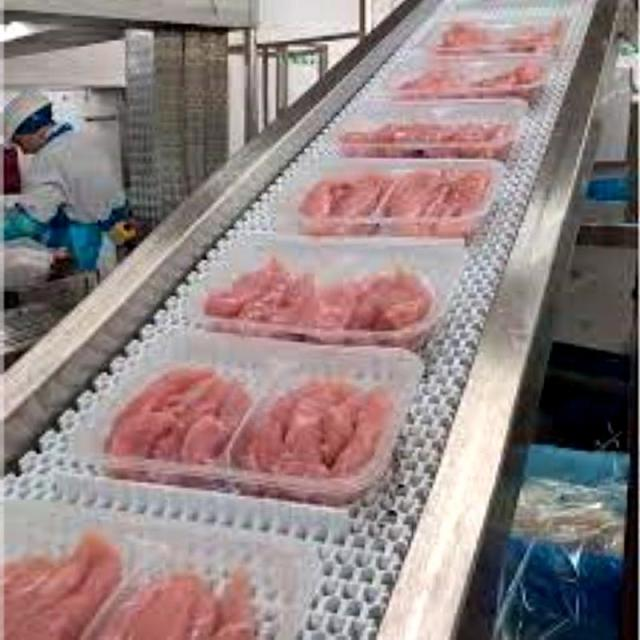food: (66, 326, 426, 512), (181, 238, 464, 340), (277, 149, 516, 245)
